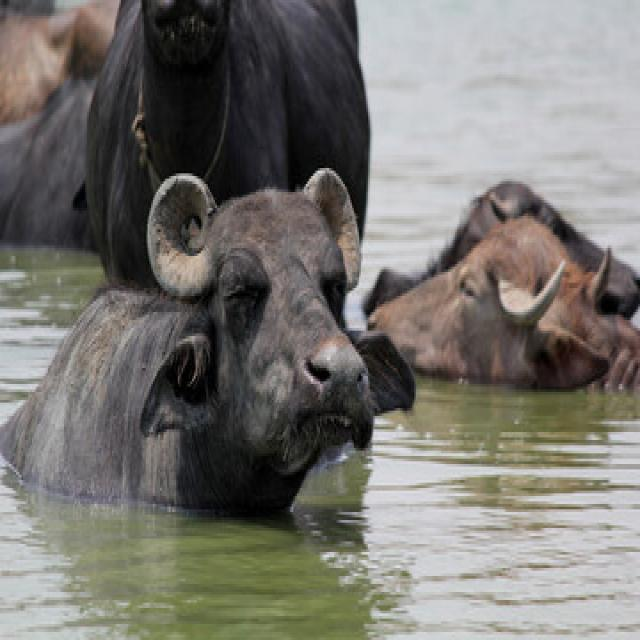Buffalo: (9, 165, 419, 520)
